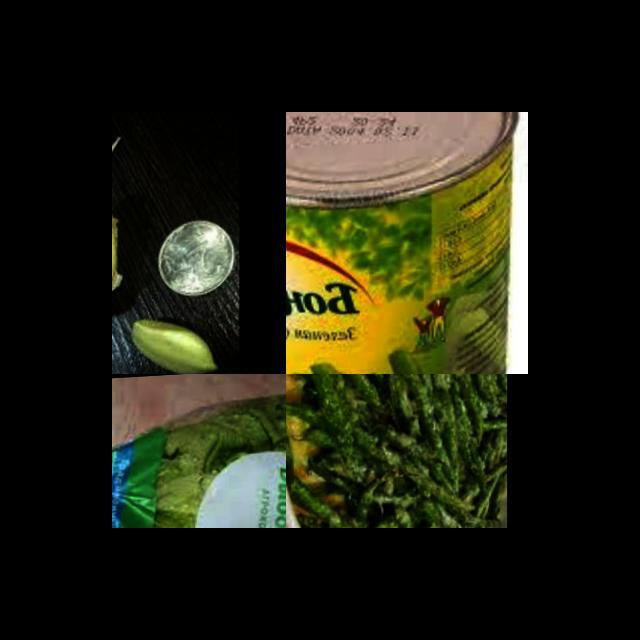garlic: (114, 312, 226, 374)
